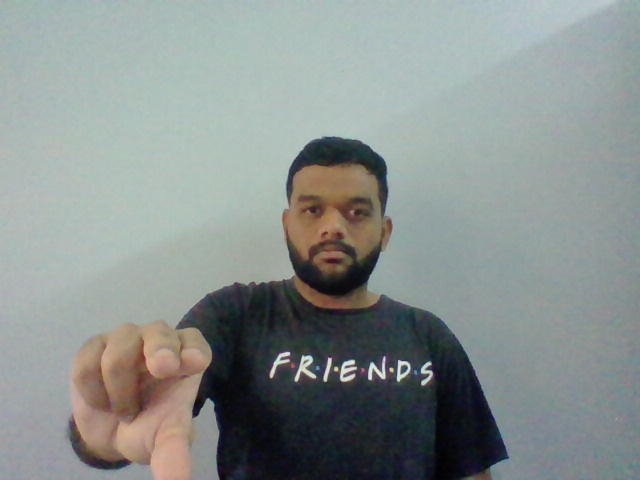No: (70, 317, 214, 480)
